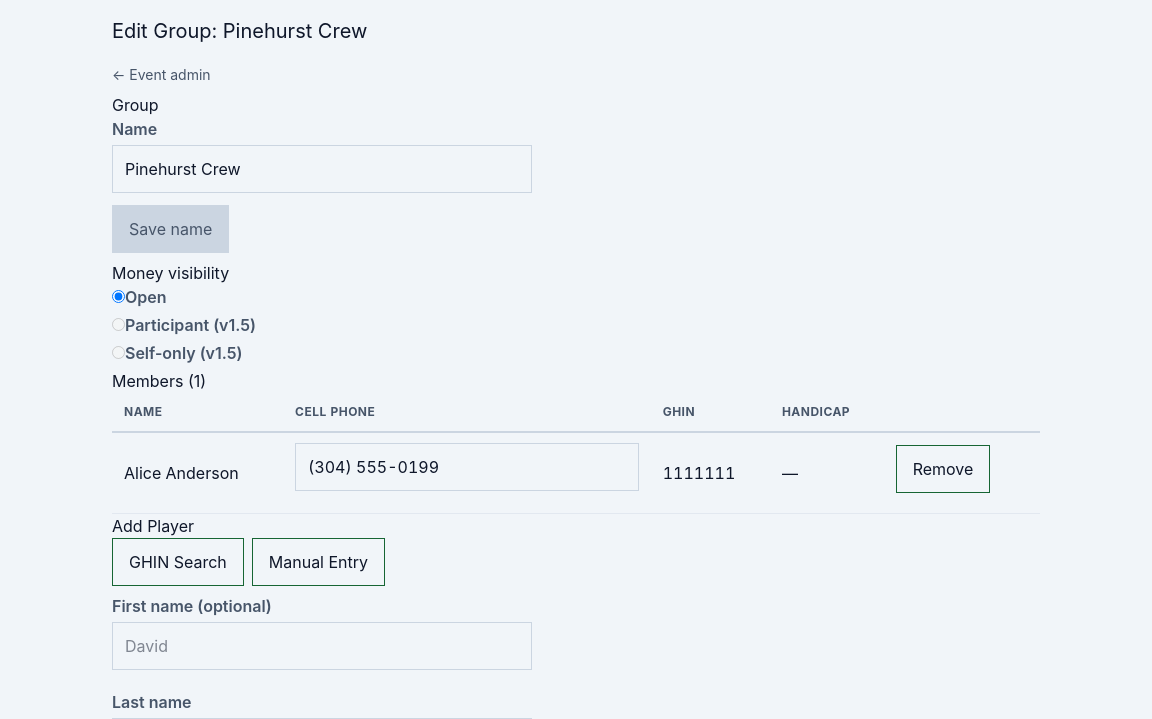
Test: EditGroupPage › remove member: click Remove → DELETE → invalidate group → row gone
The width and height of the screenshot is (1152, 719).
expect the text "Alice Anderson" is shown: met, box x1=112 y1=432 x2=283 y2=514
Click the button with aria-label "remove alice anderson" at (943, 469), box x1=896 y1=445 x2=990 y2=493
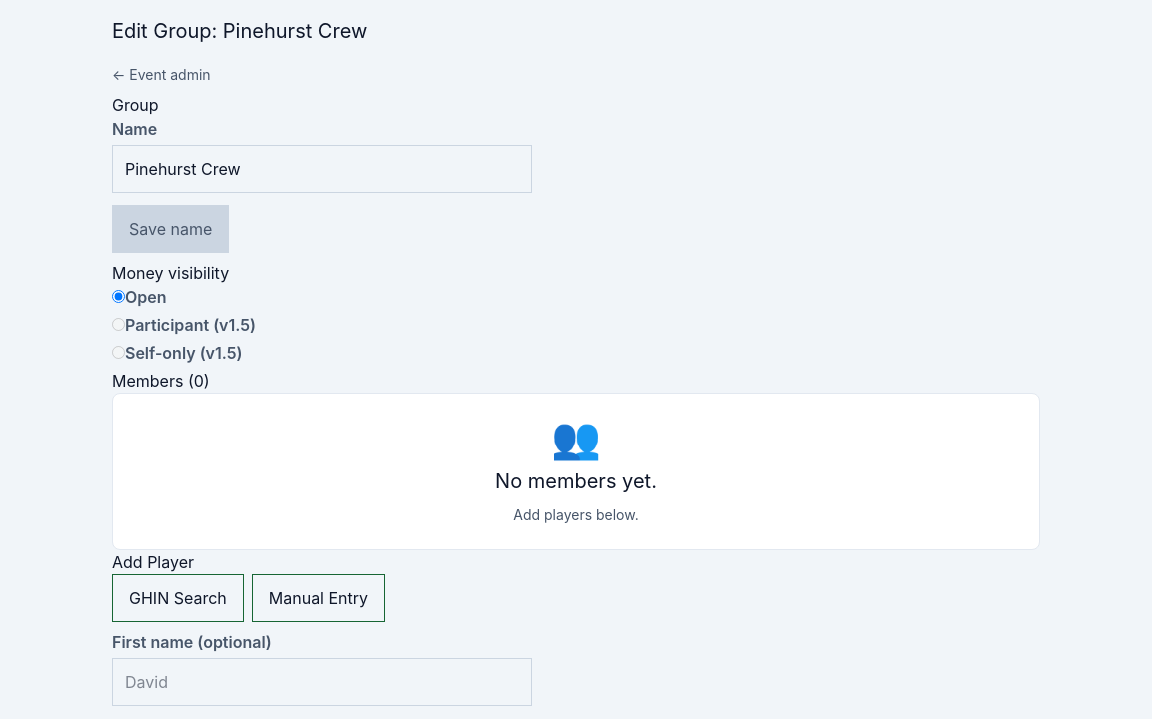
expect the text "Alice Anderson" is gone: met
expect the heading "No members yet." is shown: met, box x1=495 y1=469 x2=657 y2=493
